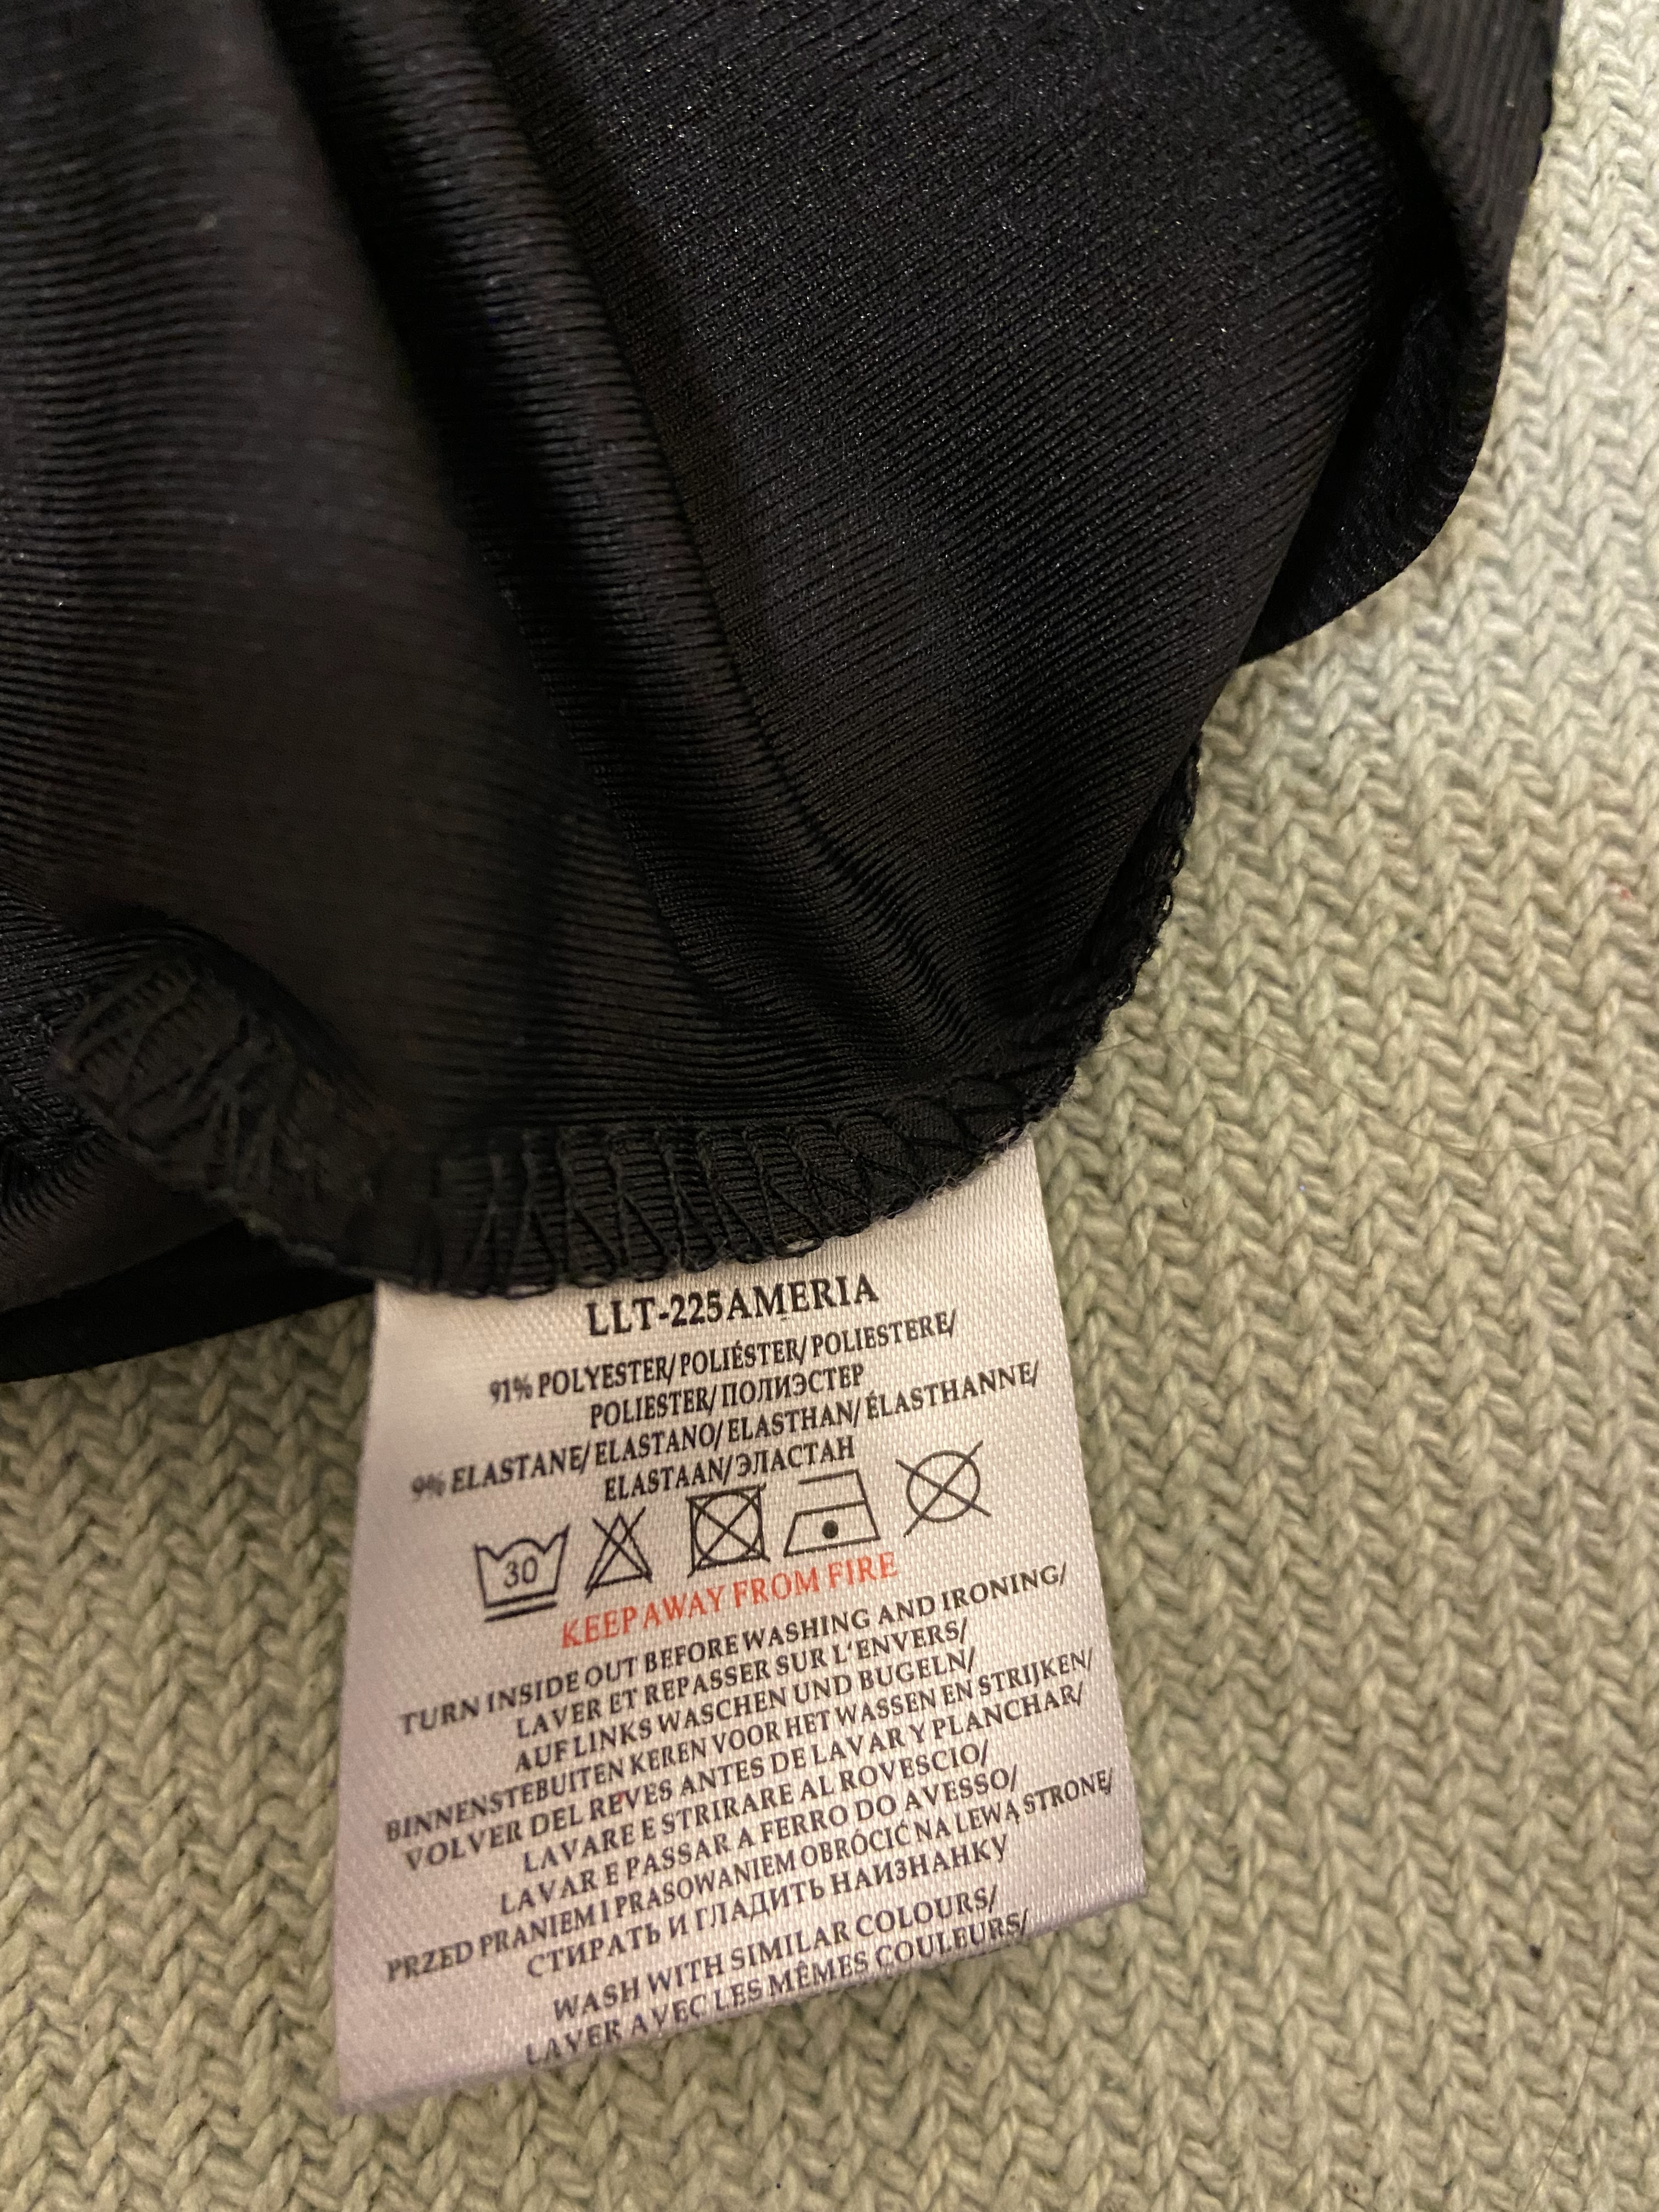do not bleach: (586, 1519, 662, 1601)
do not tumble dry: (667, 1498, 791, 1583)
dry clean: (887, 1449, 1021, 1526)
iron low temp: (772, 1475, 904, 1562)
wash at or below 30: (437, 1531, 580, 1625)
